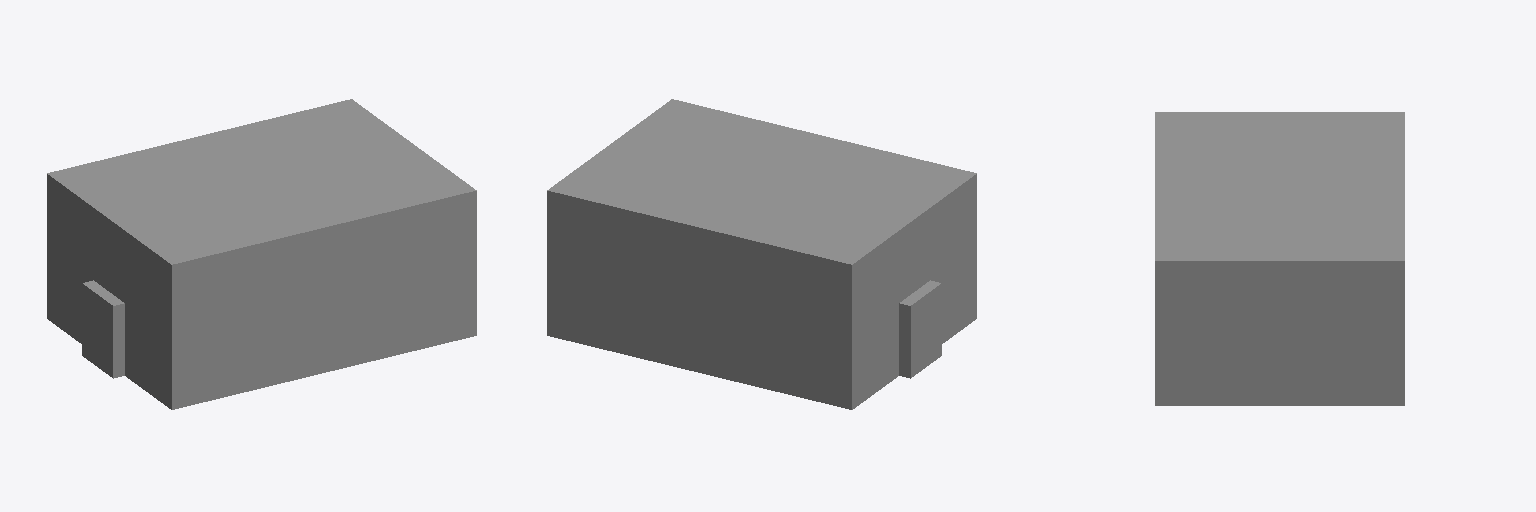
File: matrixraum.obj
3 renders of one model, left to right at view 1: azimuth 30°, elevation 25°; view 2: azimuth 150°, elevation 25°; view 3: azimuth 270°, elevation 25°, orthographic.
Visible parts, largest first — view 1: Plane; view 2: Plane; view 3: Plane.
Part boxes in pixels (left/top/right/bottom): Plane: left=47, top=99, right=476, bottom=409; Plane: left=547, top=99, right=976, bottom=409; Plane: left=1155, top=112, right=1404, bottom=405.
Size of the model in its own units: 12.67 by 5.56 by 8.67.